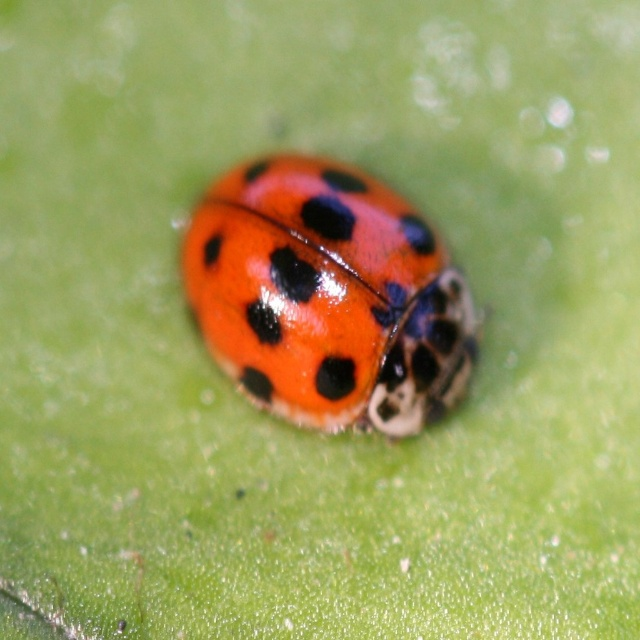Ladybug: (181, 154, 482, 435)
